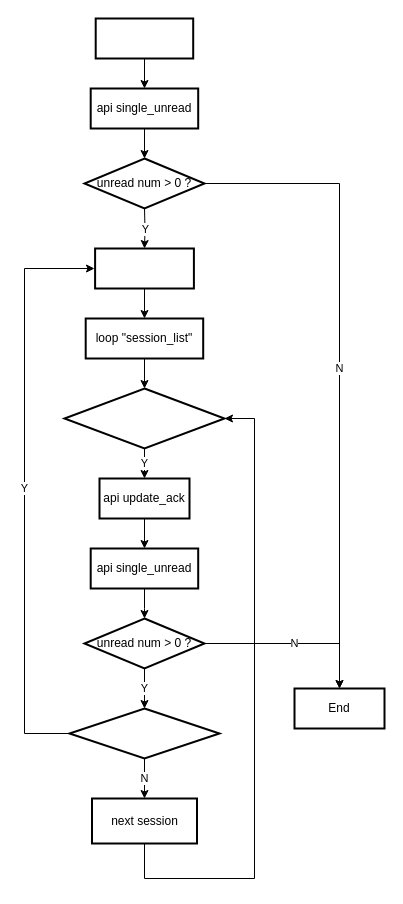
Image size: 403x904. Some labels were removed from this diagram. Each missing label, with the centre of its shape:
api get_sessions: the point at 144,268
click button: the point at 144,38
is "unread_count" > 0 ?: the point at 144,418
is last session ?: the point at 144,733
